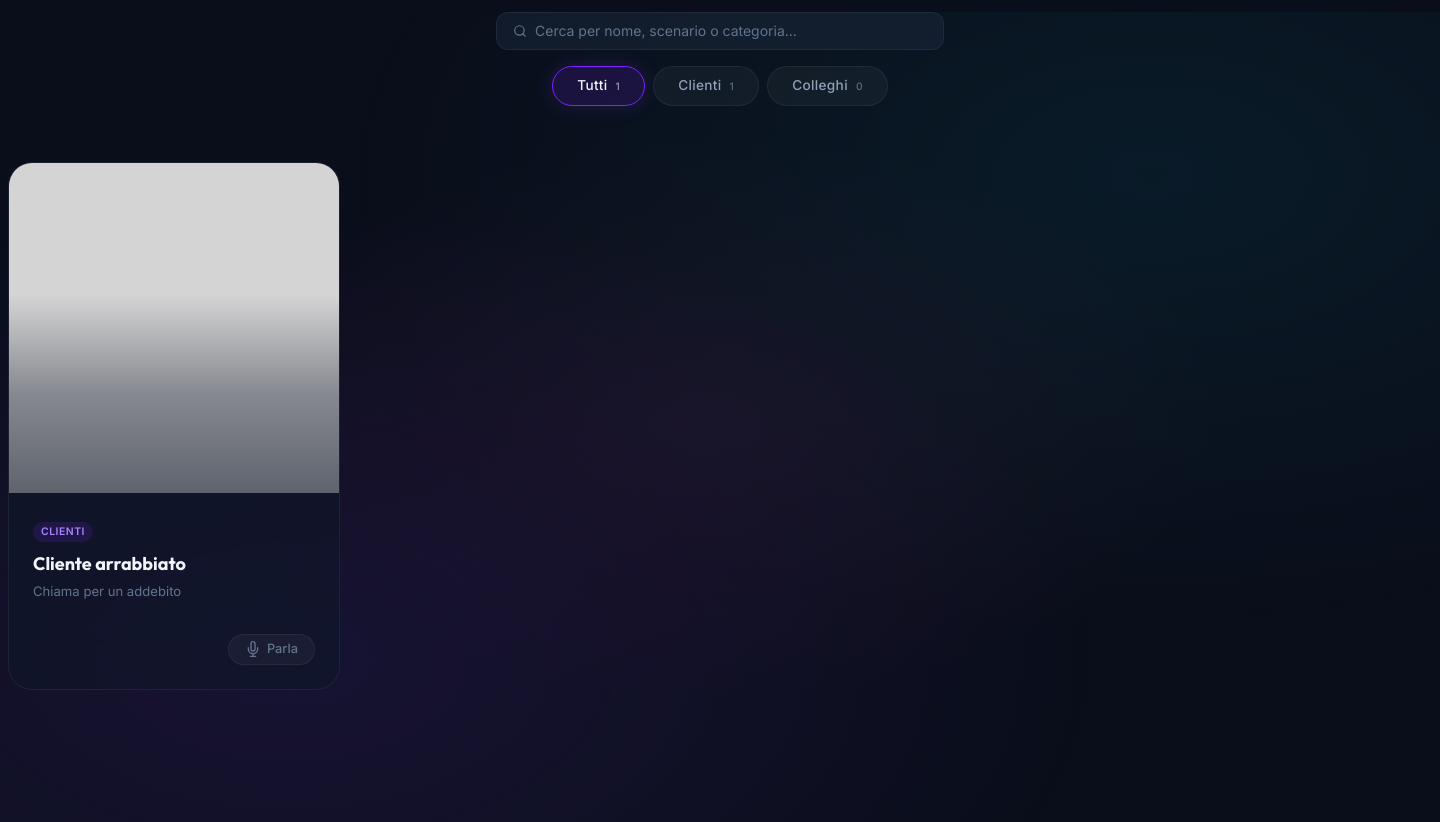
Test case: quando non resta niente da mostrare › offre di tornare al catalogo da una categoria vuota
Click the radio button labelled "Colleghi0" at (827, 86), box [767, 66, 888, 106]
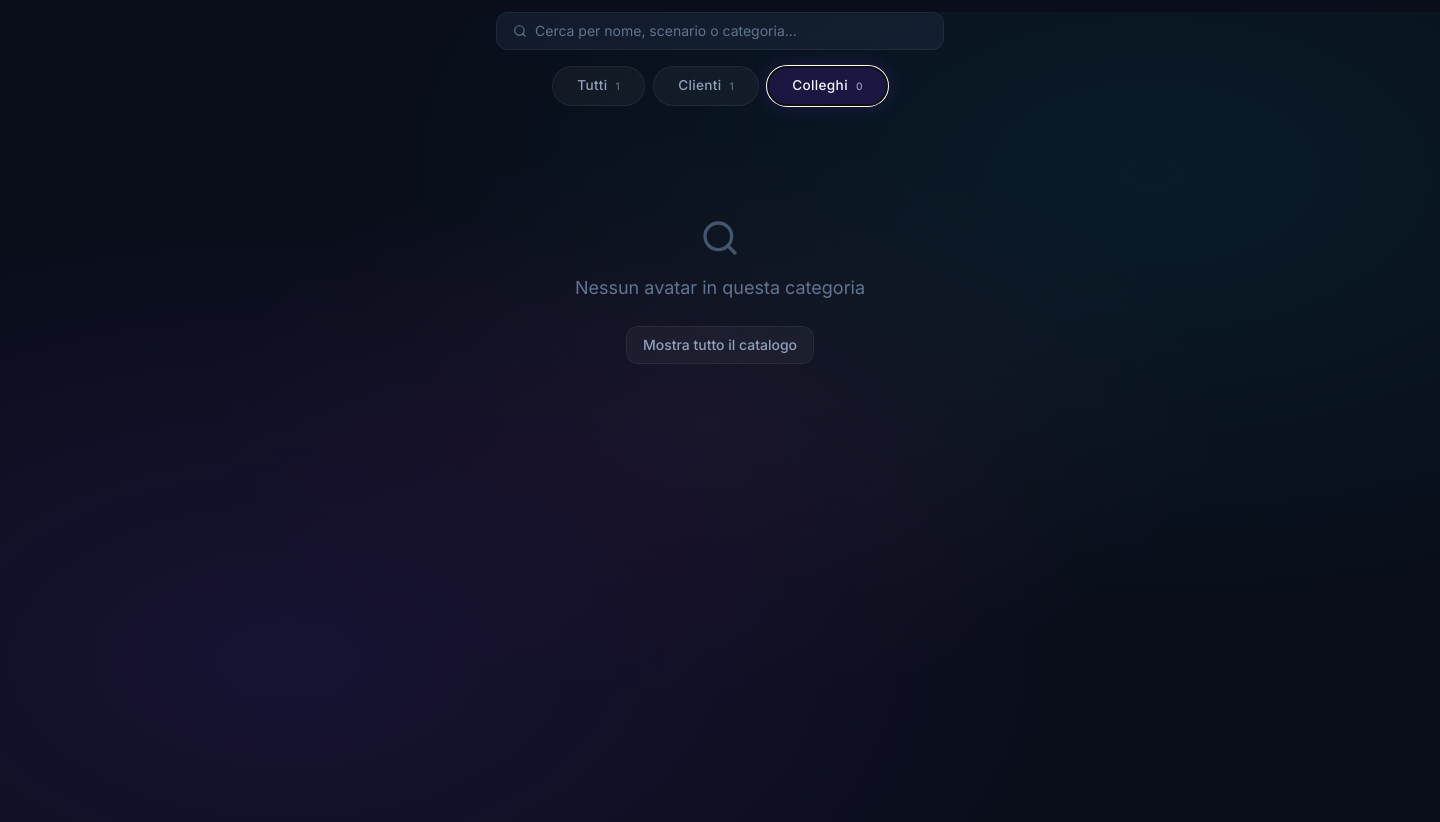
Expected: the text "Nessun avatar in questa categoria" is shown, [575, 277, 865, 298]
Click the button "Mostra tutto il catalogo" at (720, 345), box [626, 326, 814, 364]
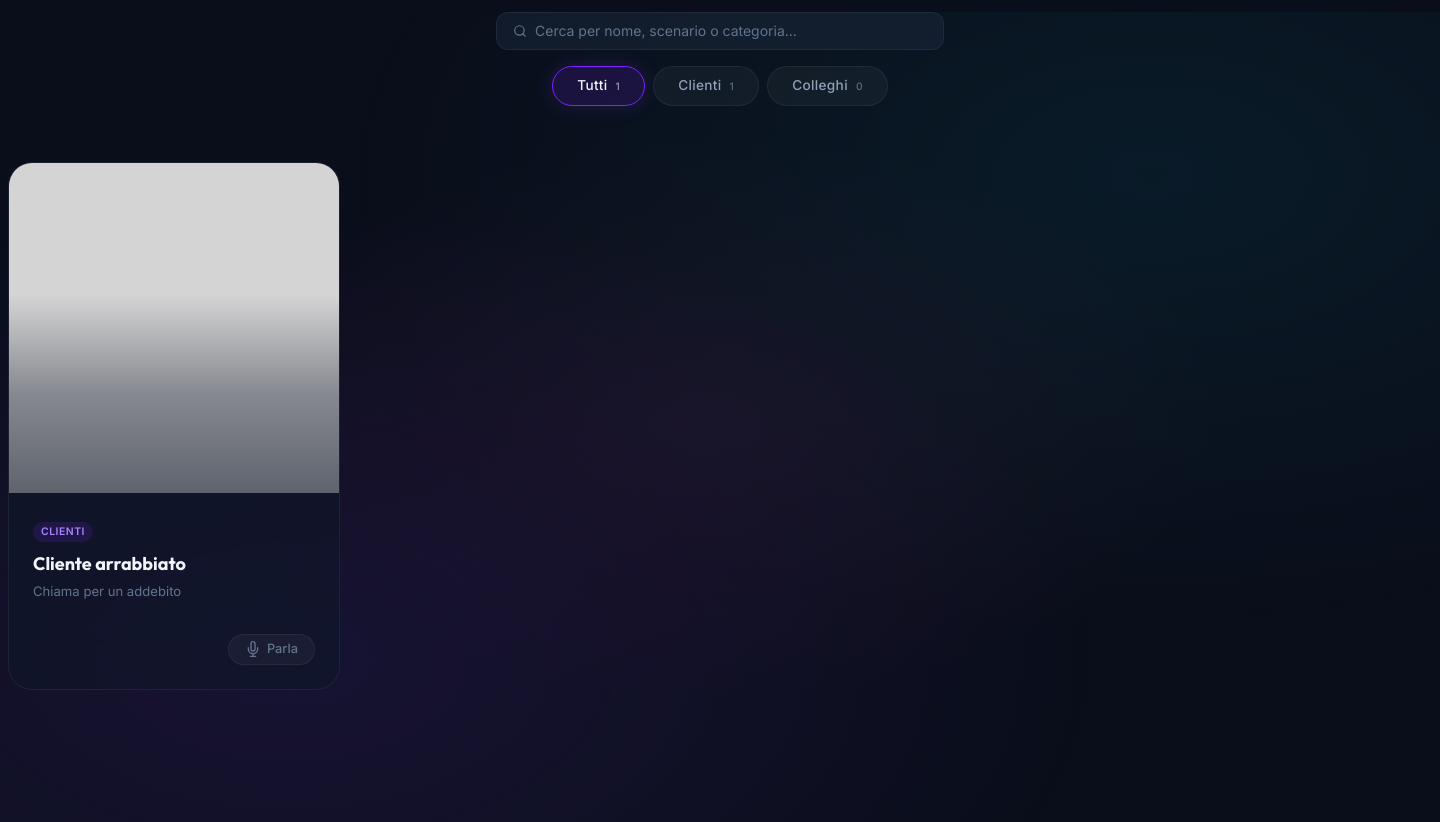
Expected: the heading "Cliente arrabbiato" is shown, [33, 552, 186, 575]
